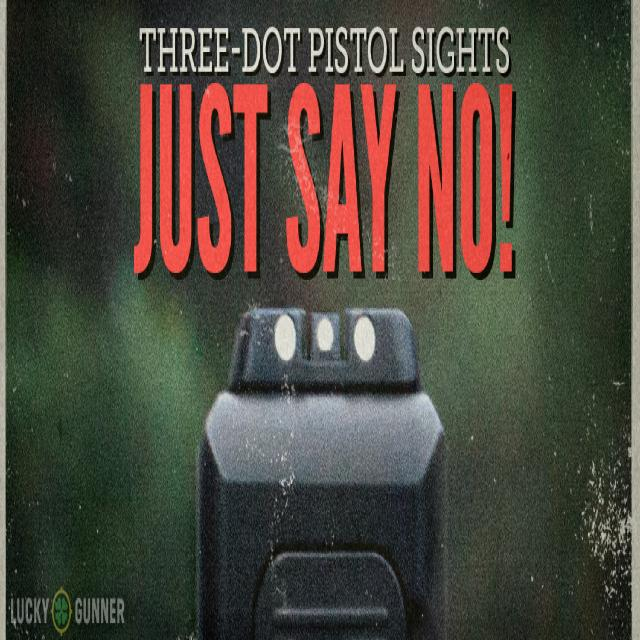gun: (197, 301, 447, 639)
